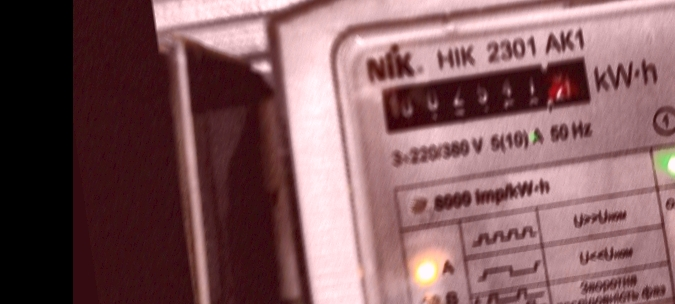0: (397, 91, 418, 119), (424, 84, 442, 113)
1: (523, 68, 539, 97)
2: (448, 81, 467, 108)
4: (499, 73, 515, 97)
5: (472, 76, 494, 106)
6: (552, 81, 569, 101)
screen: (368, 42, 609, 145)
